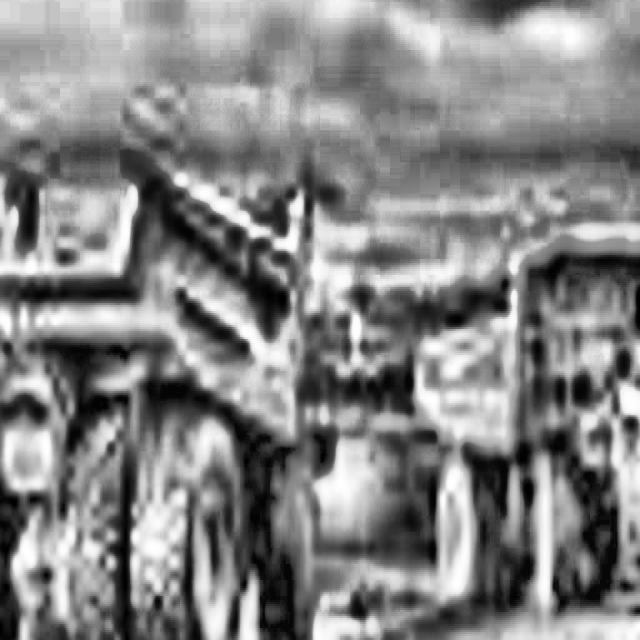dump_truck: (0, 54, 414, 640), (411, 144, 640, 628)
